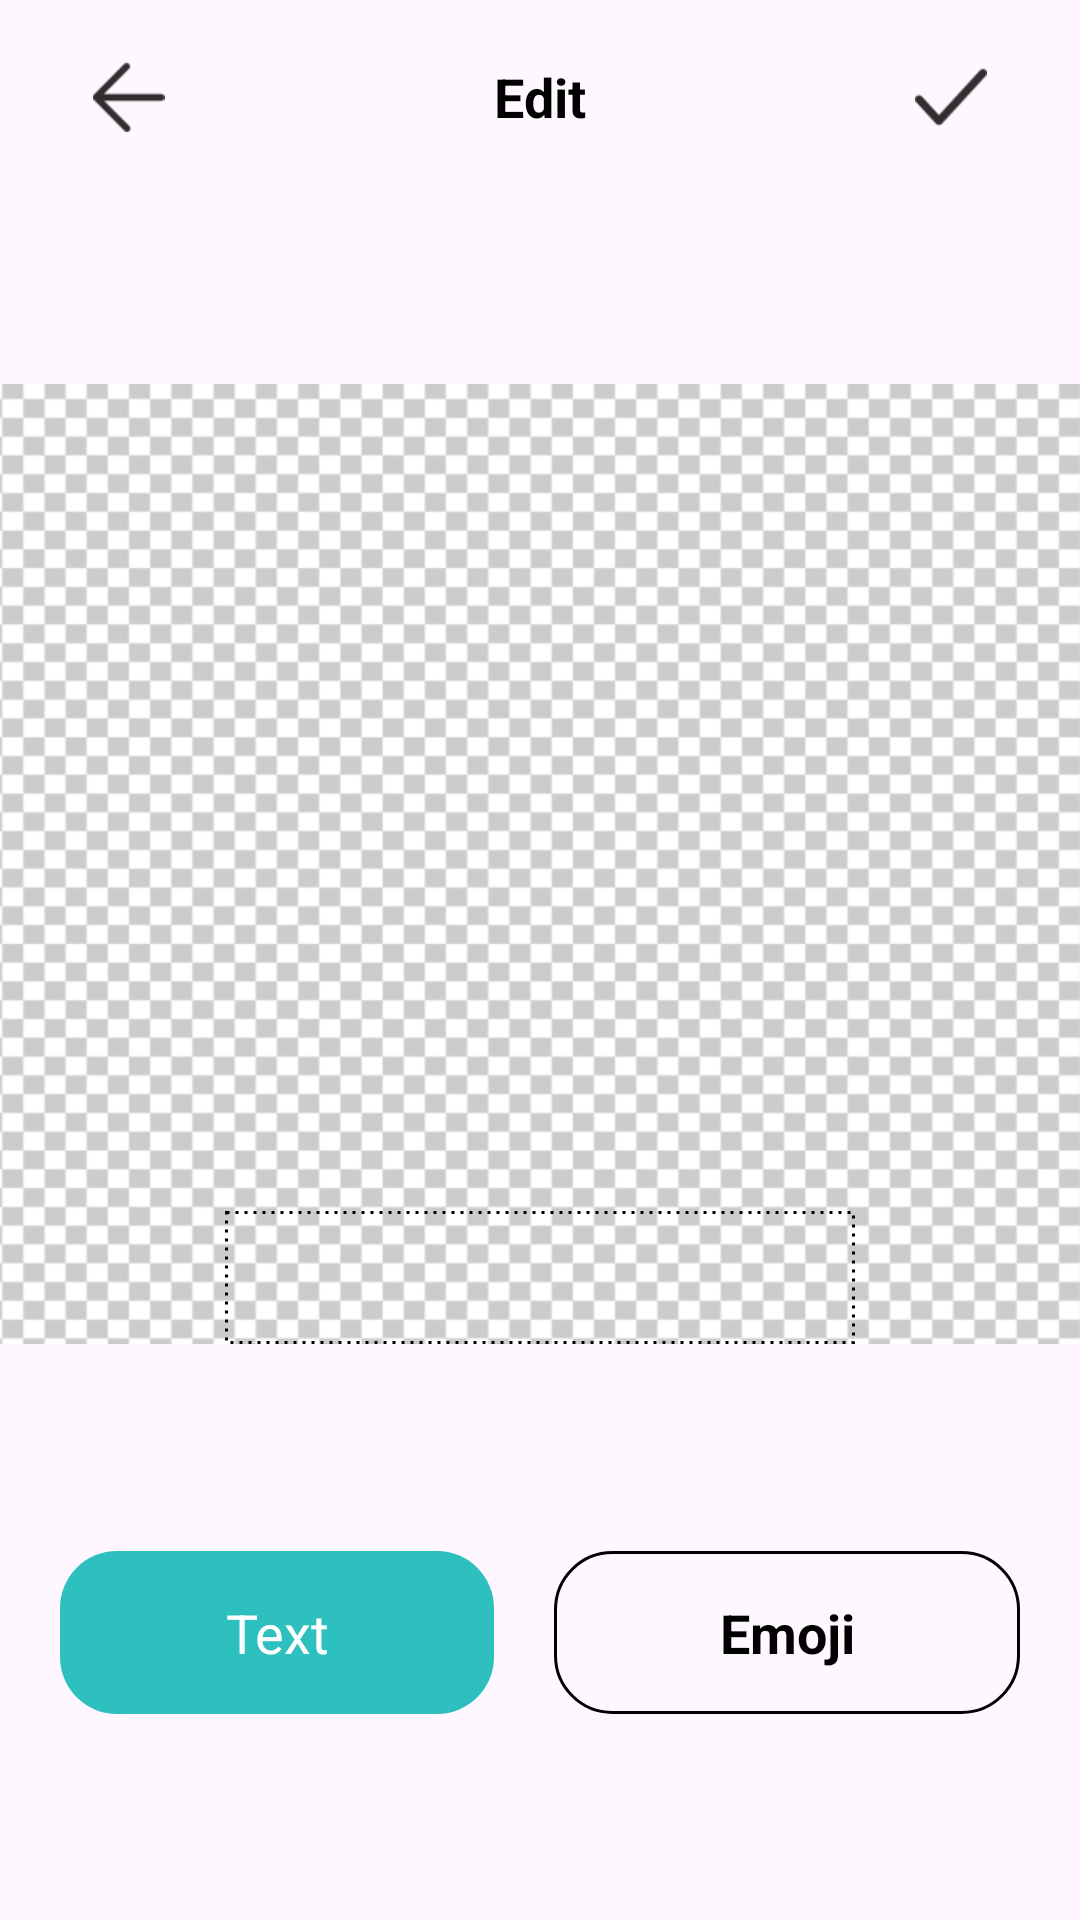

Icon bounding boxes for this 1080 × 1920 phone screenshot, format (x1, y1, x2, y2):
back: (93, 62, 165, 132)
done: (915, 68, 987, 126)
